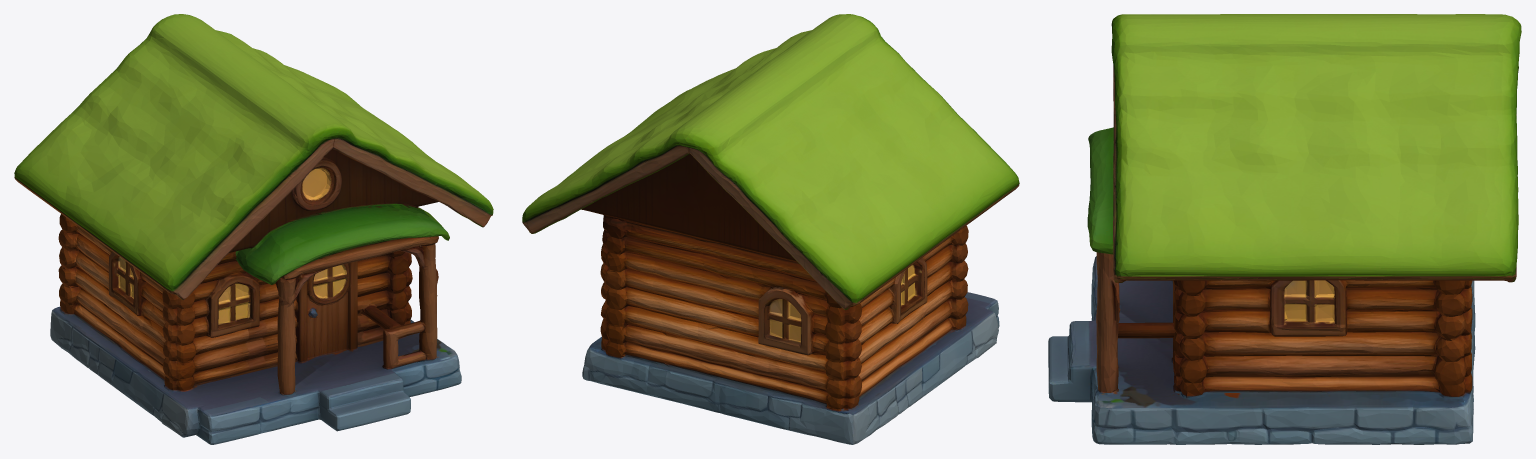
Rendered from cabin.glb.
3 renders of one model, left to right at view 1: azimuth 30°, elevation 25°; view 2: azimuth 150°, elevation 25°; view 3: azimuth 270°, elevation 25°, orthographic. The views are drawn at different scales.
Parts seen in each view (by area): view 1: textured_mesh.obj; view 2: textured_mesh.obj; view 3: textured_mesh.obj.
Boxes of the visible parts, box(x1,y1,x2,y2) form: textured_mesh.obj: box(14, 14, 493, 444); textured_mesh.obj: box(522, 14, 1019, 444); textured_mesh.obj: box(1048, 14, 1521, 444).
Bounding box in the file's own units: 1.96 × 1.61 × 1.96.
1 material, 1 textured.
